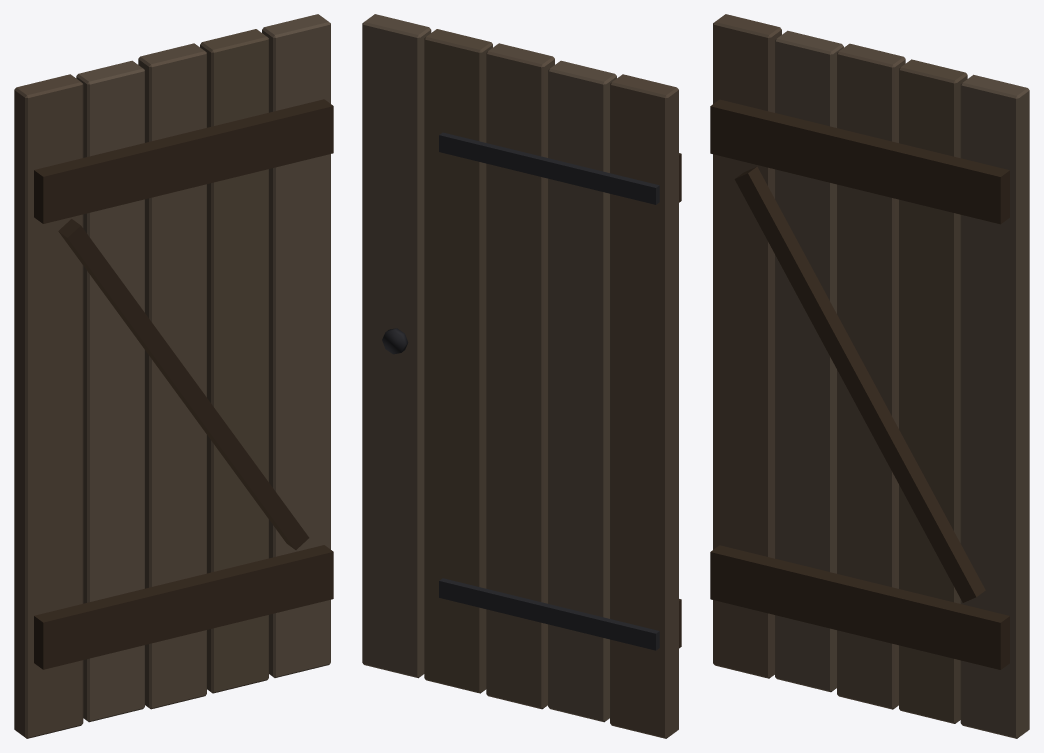
The model's file is cottage_door_intact.glb.
3 renders of one model, left to right at view 1: azimuth 30°, elevation 25°; view 2: azimuth 150°, elevation 25°; view 3: azimuth 330°, elevation 25°, orthographic.
Parts seen in each view (by area): view 1: cottage_door_intact; view 2: cottage_door_intact; view 3: cottage_door_intact.
Boxes of the visible parts, box(x1,y1,x2,y2) form: cottage_door_intact: box(14, 14, 333, 738); cottage_door_intact: box(362, 14, 681, 738); cottage_door_intact: box(710, 14, 1029, 738).
Size of what is drawn, in the model's own units: 0.948 by 1.91 by 0.145.
